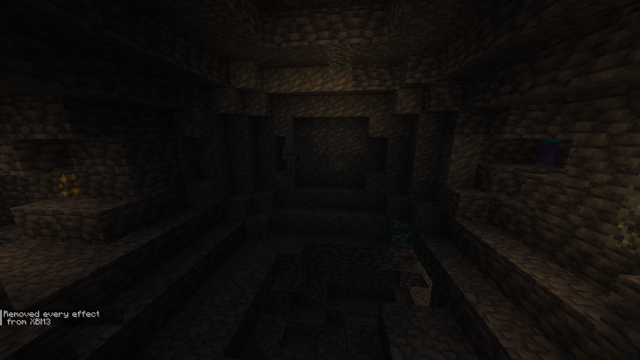diamond: (388, 217, 413, 247)
gold: (52, 171, 84, 197)
